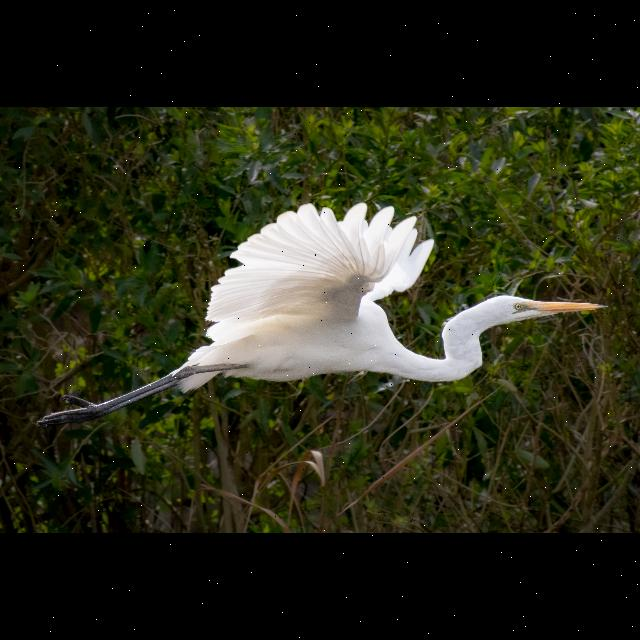egret: (30, 198, 608, 442)
